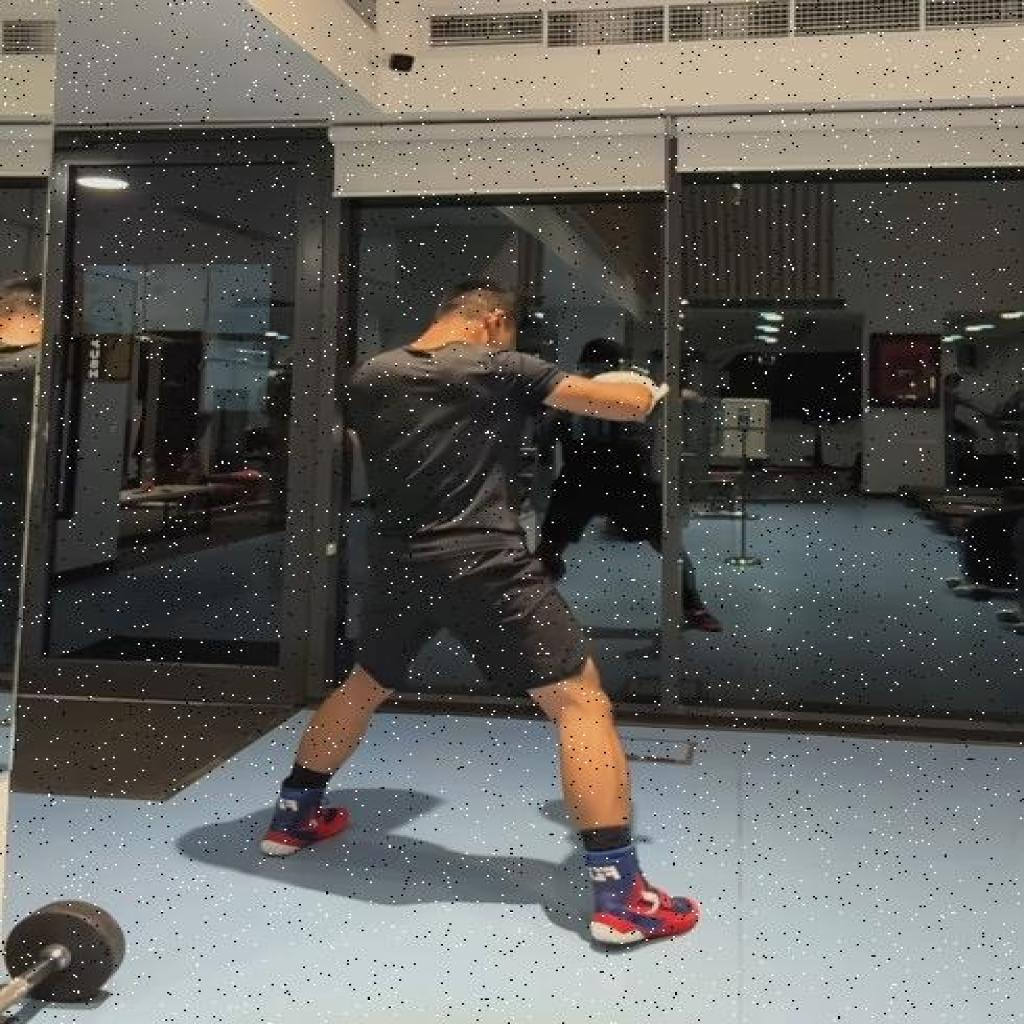hook: (257, 275, 706, 954)
